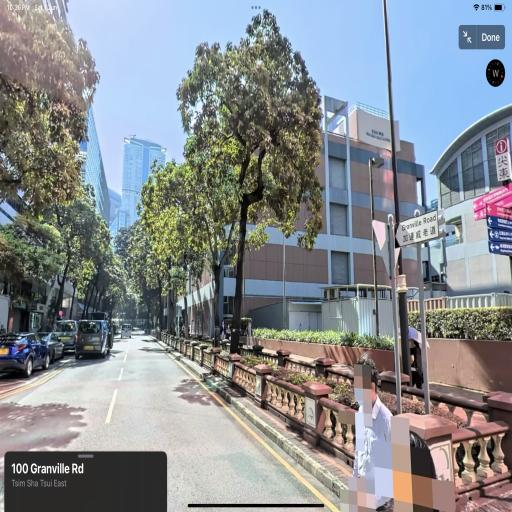Roads: (6, 310, 472, 511)
Trees: (184, 55, 324, 354), (0, 29, 102, 301)
